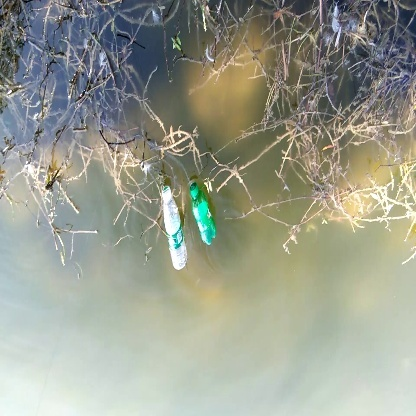bottle: (157, 186, 192, 269), (189, 182, 220, 251)
